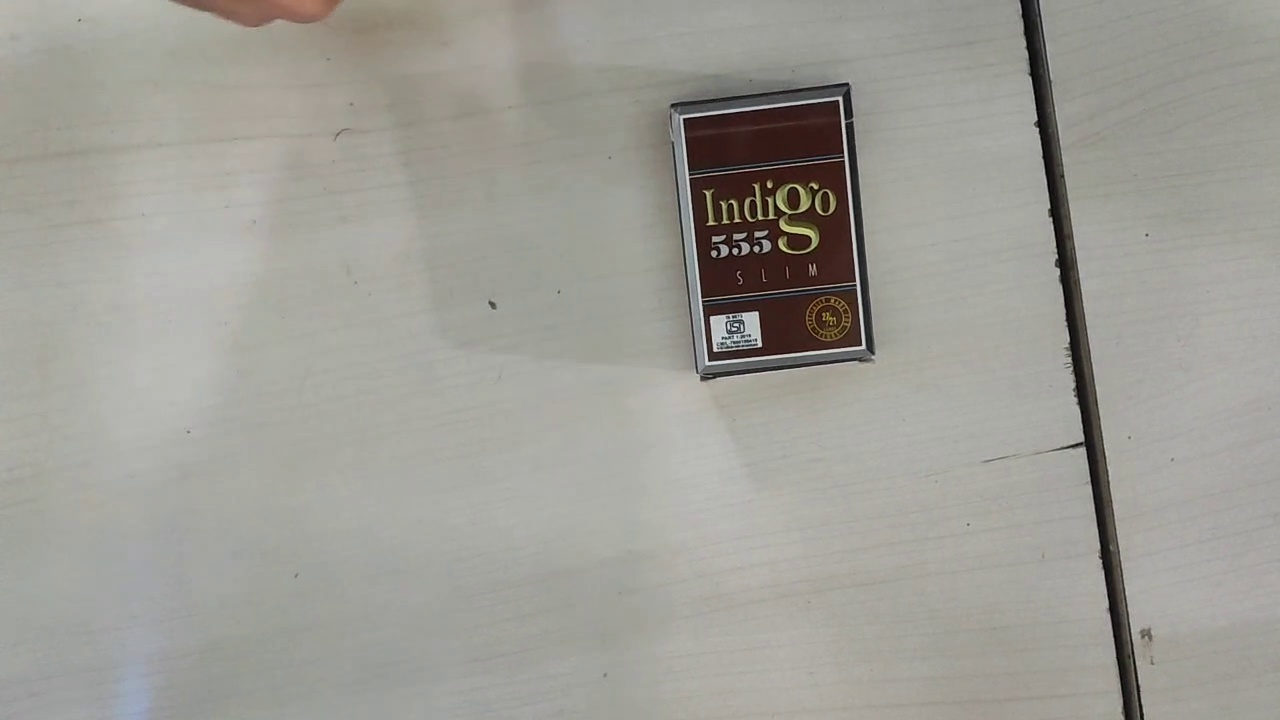BEX: (682, 97, 866, 364)
